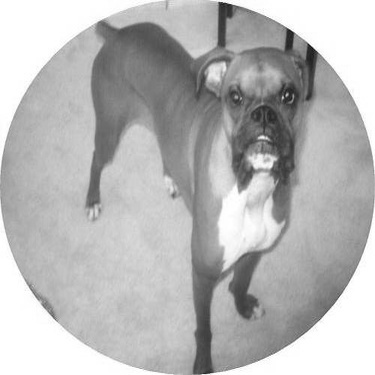dog: (65, 10, 315, 373)
